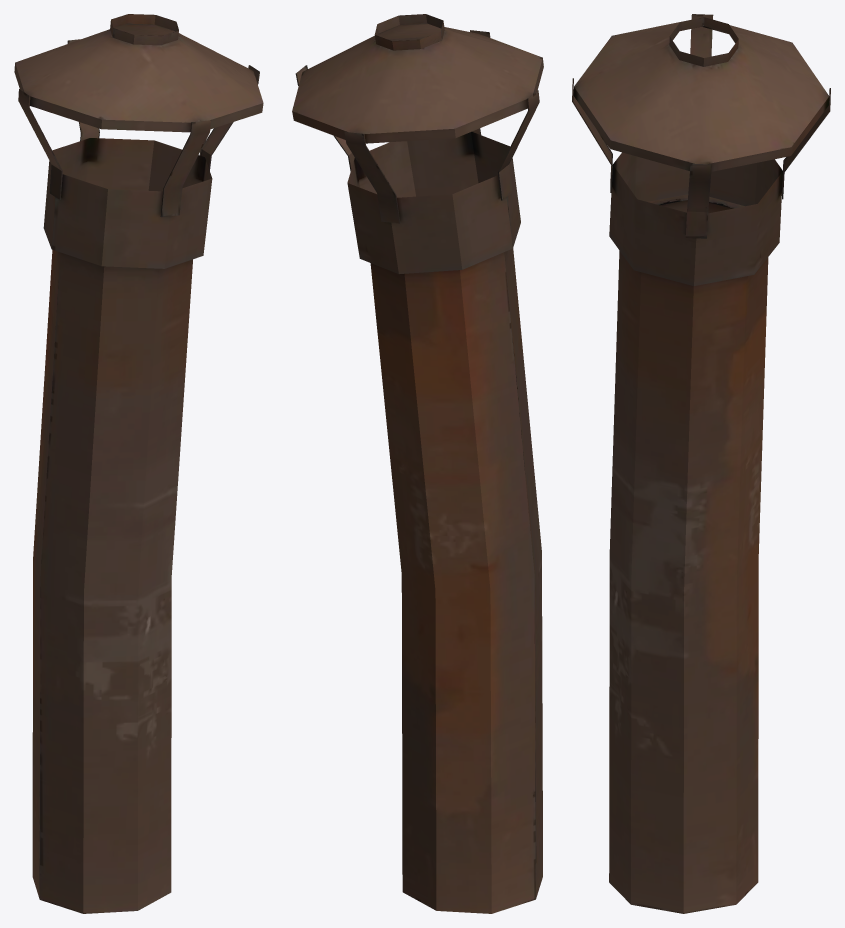
3 renders of one model, left to right at view 1: azimuth 30°, elevation 25°; view 2: azimuth 150°, elevation 25°; view 3: azimuth 270°, elevation 25°, orthographic. The views are drawn at different scales.
Visible parts, largest first — view 1: body0_model0_lod0_mesh0; view 2: body0_model0_lod0_mesh0; view 3: body0_model0_lod0_mesh0.
Part boxes in pixels (x1,y1,x2,y2): body0_model0_lod0_mesh0: (14,14,263,913); body0_model0_lod0_mesh0: (292,14,543,913); body0_model0_lod0_mesh0: (572,14,830,913).
Bounding box in the file's own units: 3.25 × 11.34 × 3.04.
Materials: 1 (1 with a texture image).
